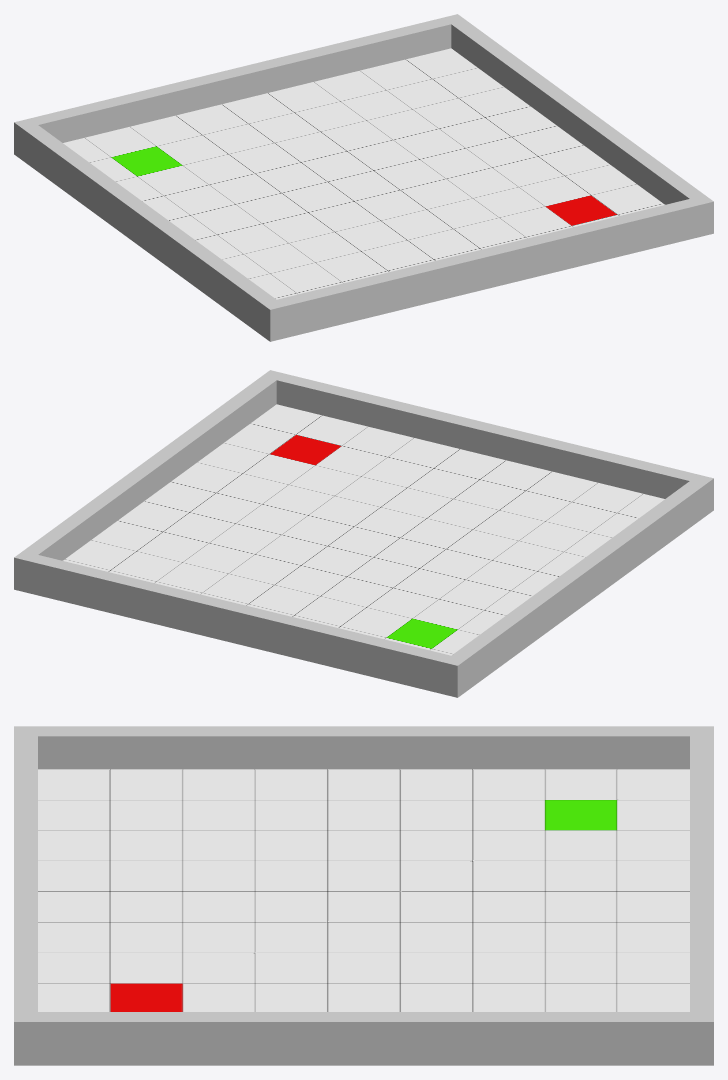
File: imitation_learning_stage.dae
The picture shows the model from 3 angles, top to bottom: view 1: azimuth 30°, elevation 25°; view 2: azimuth 150°, elevation 25°; view 3: azimuth 270°, elevation 25°; orthographic projection. The views are drawn at different scales.
Parts seen in each view (by area): view 1: imitation_learning_stage; view 2: imitation_learning_stage; view 3: imitation_learning_stage.
Part boxes in pixels (x1,y1,x2,y2): imitation_learning_stage: (14,14,713,341); imitation_learning_stage: (14,370,713,697); imitation_learning_stage: (14,726,713,1065).
Size of the model in its own units: 5.8 by 5.8 by 0.4.
2 materials, 1 textured.
